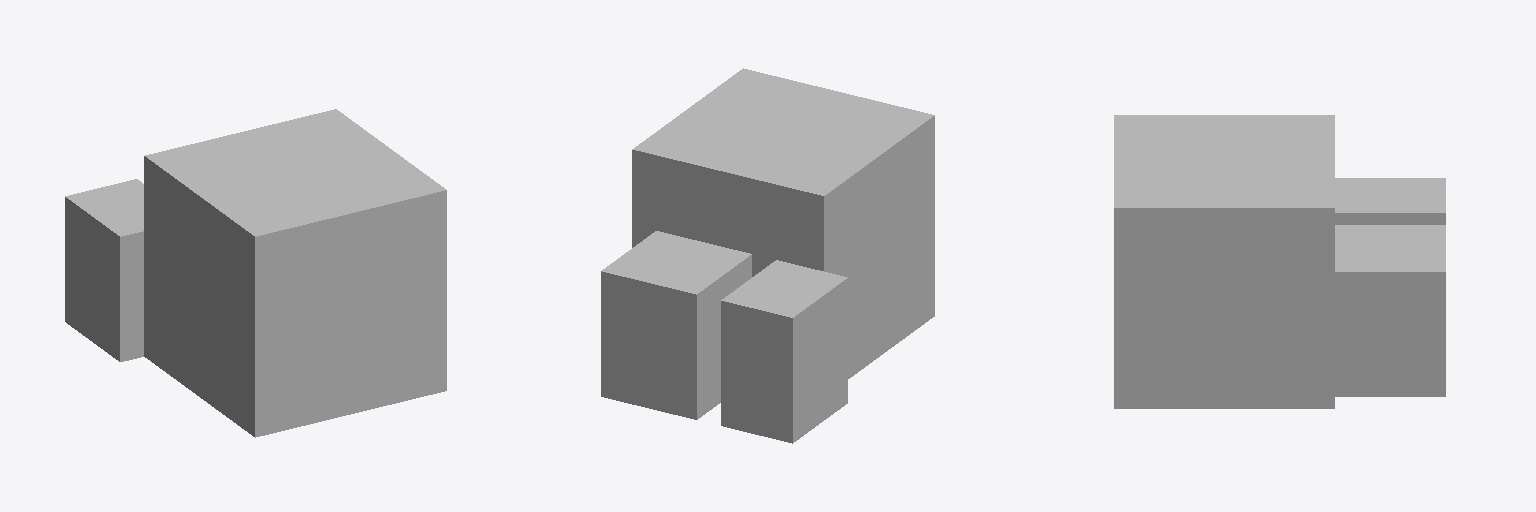
File: cog_chest_3.obj
3 views of the same model, side by side, from view 1: azimuth 30°, elevation 25°; view 2: azimuth 150°, elevation 25°; view 3: azimuth 270°, elevation 25° (orthographic).
Visible parts, largest first — view 1: cube; view 2: cube; view 3: cube.
Boxes of the visible parts, <box> form: cube: <box>65,109,446,437</box>; cube: <box>601,68,934,443</box>; cube: <box>1114,115,1445,408</box>.
Bounding box in the file's own units: 0.5625 × 0.5 × 0.75.